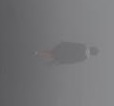person: (33, 41, 100, 67)
